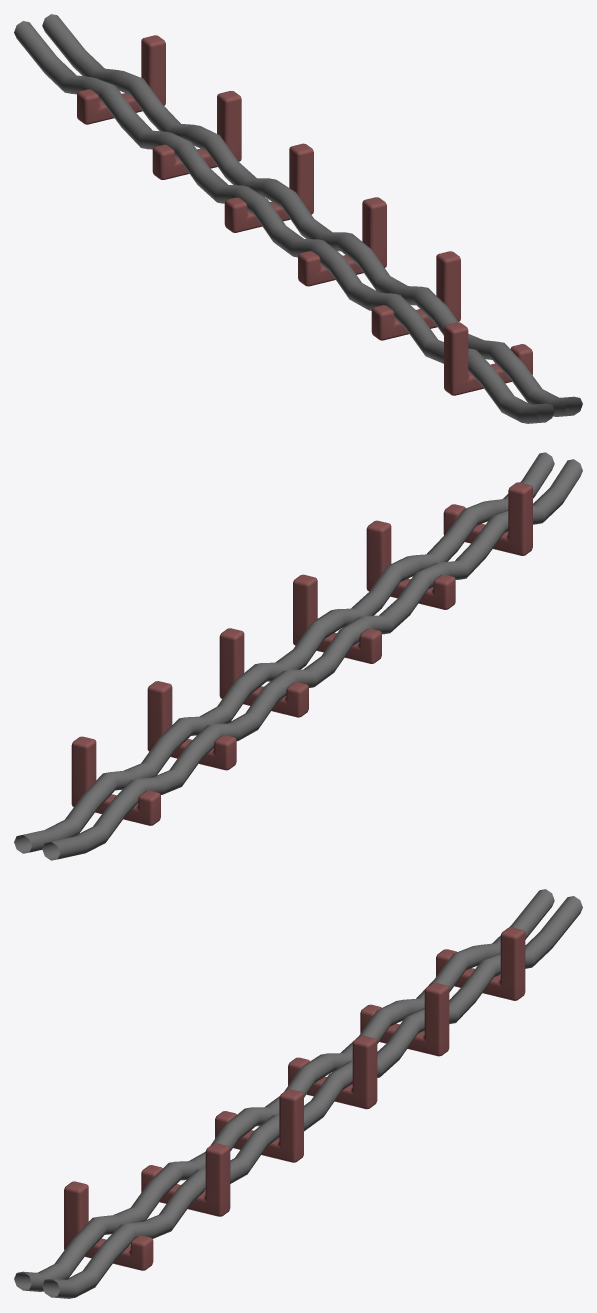
The model's file is roofcables.fbx.
The picture shows the model from 3 angles, top to bottom: view 1: azimuth 30°, elevation 25°; view 2: azimuth 150°, elevation 25°; view 3: azimuth 330°, elevation 25°; orthographic projection.
Visible parts, largest first — view 1: Roof_Cables; view 2: Roof_Cables; view 3: Roof_Cables.
Part boxes in pixels (box(x1,y1,x2,y2)): Roof_Cables: box(14, 14, 582, 423); Roof_Cables: box(14, 452, 582, 860); Roof_Cables: box(14, 889, 582, 1298).
Size of the model in its own units: 3.24 by 2.47 by 34.75.
